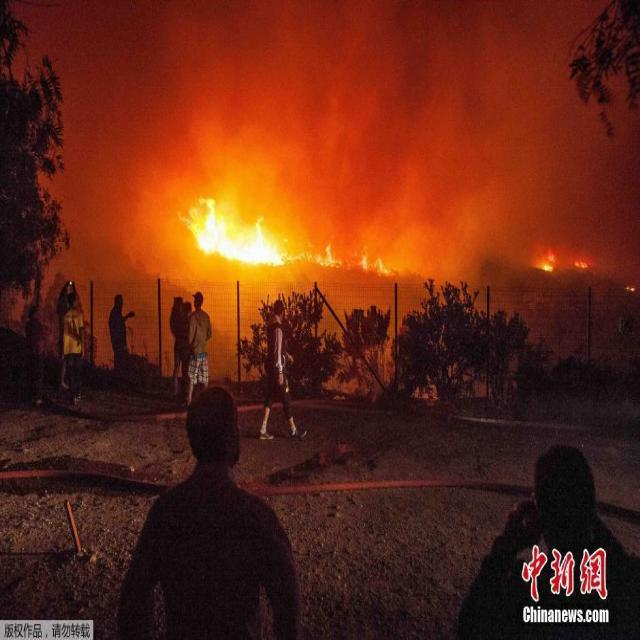fire: (184, 201, 400, 269), (531, 243, 562, 274)
smoke: (56, 0, 622, 228)
